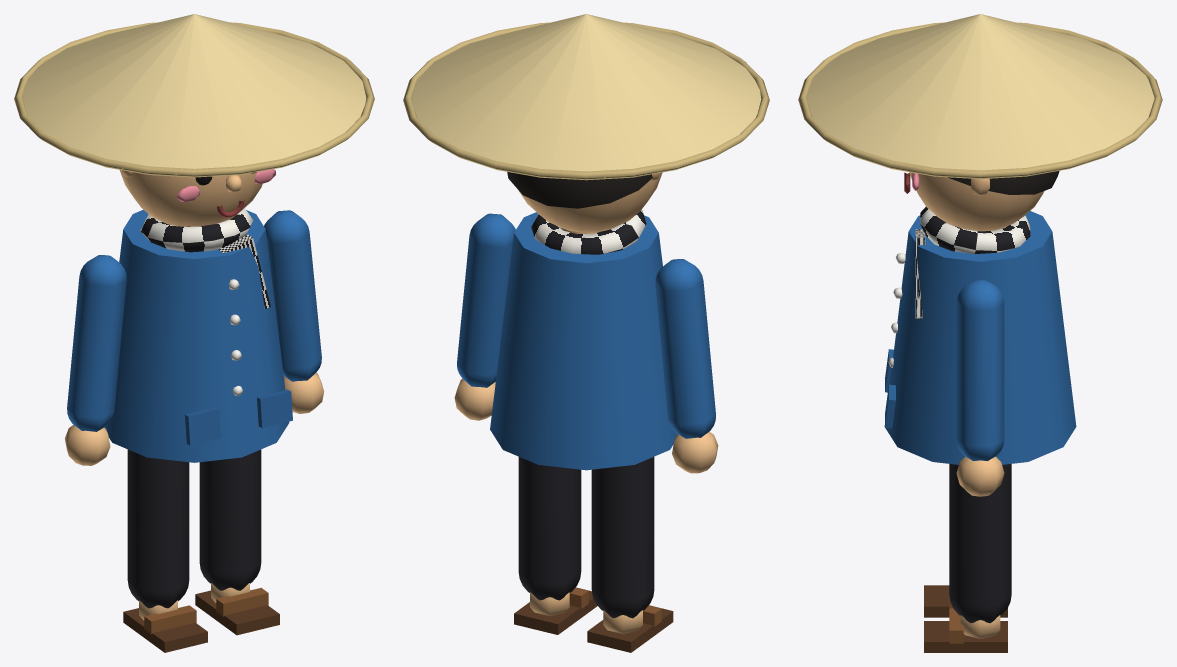
Rendered from nguoi_nam.glb.
3 renders of one model, left to right at view 1: azimuth 30°, elevation 25°; view 2: azimuth 150°, elevation 25°; view 3: azimuth 270°, elevation 25°, orthographic.
Parts seen in each view (by area): view 1: Head, Body, LegL, LegR, ArmL, ArmR; view 2: Head, Body, LegL, LegR, ArmL, ArmR; view 3: Head, Body, LegR, ArmR, LegL.
Part boxes in pixels (x1,y1,x2,y2): Head: (14,14,374,226); Body: (105,208,292,462); LegL: (123,449,207,652); LegR: (195,449,279,635); ArmL: (65,255,126,465); ArmR: (264,210,324,413); Head: (403,14,769,232); Body: (490,209,677,470); LegL: (587,457,673,652); LegR: (514,457,597,634); ArmL: (655,259,718,473); ArmR: (454,213,515,420); Head: (798,14,1162,231); Body: (884,207,1076,464); LegR: (924,464,1011,652); ArmR: (956,280,1004,496); LegL: (924,585,1007,617).
Size of the model in its own units: 0.304 by 0.562 by 0.304.
17 materials, 1 textured.
